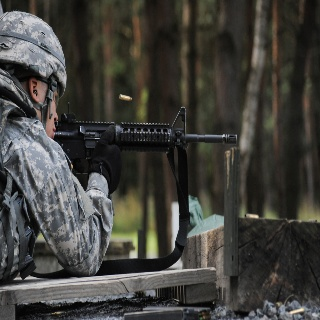rifle: (47, 105, 240, 191)
